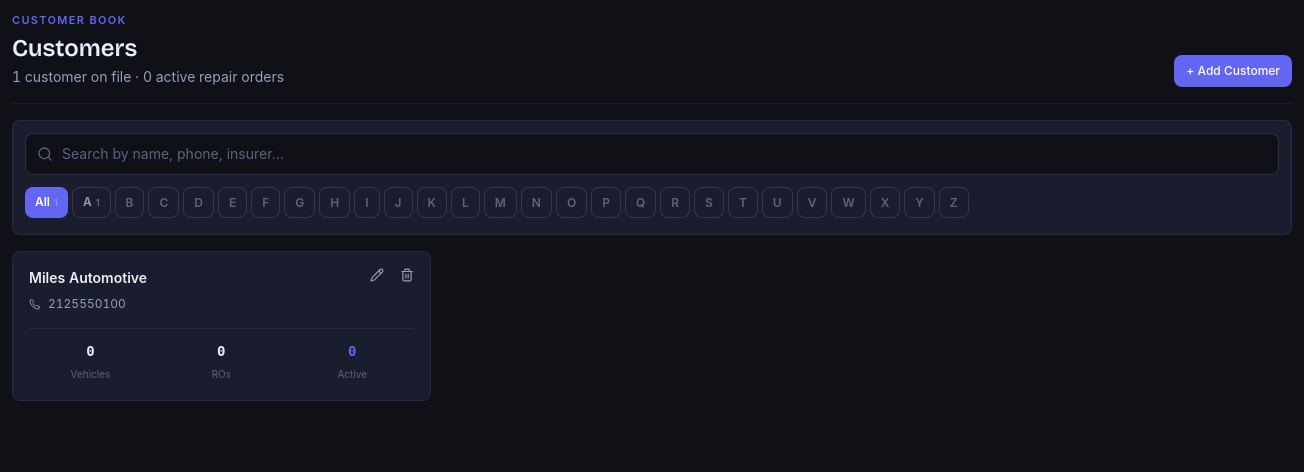
Test: Customers mobile form flow › shows failed deletes inline instead of using a browser alert
This screenshot has width=1304, height=472.
expect the text "Miles Automotive" is shown: met, box [29,268,147,288]
Click the button titled "Delete customer" at (407, 275), box [394,262,420,288]
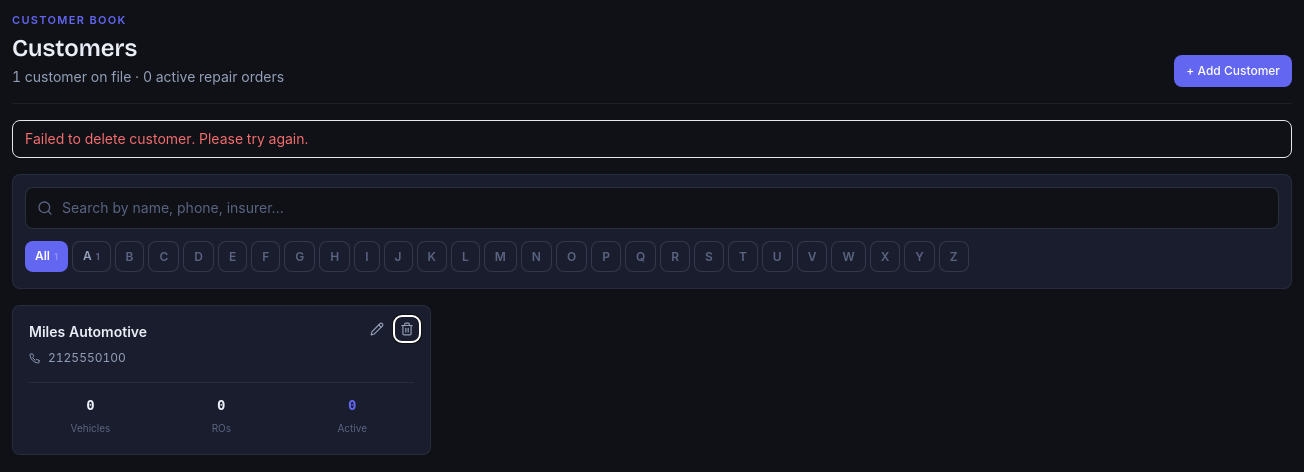
expect the message reads "Failed to delete customer. Please try again.": met, box [25,130,308,147]
